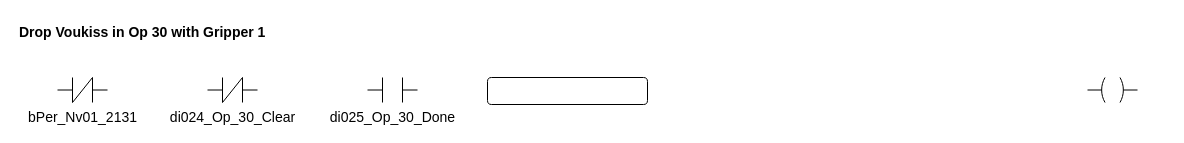
Image size: 1184x143. Some labels were removed from this diagram. Each missing label, with the box of its shape:
bPer_Nv02_2131: (1086, 76, 1138, 102)
nPart_In_Tool[1] = 20: (486, 76, 648, 104)
